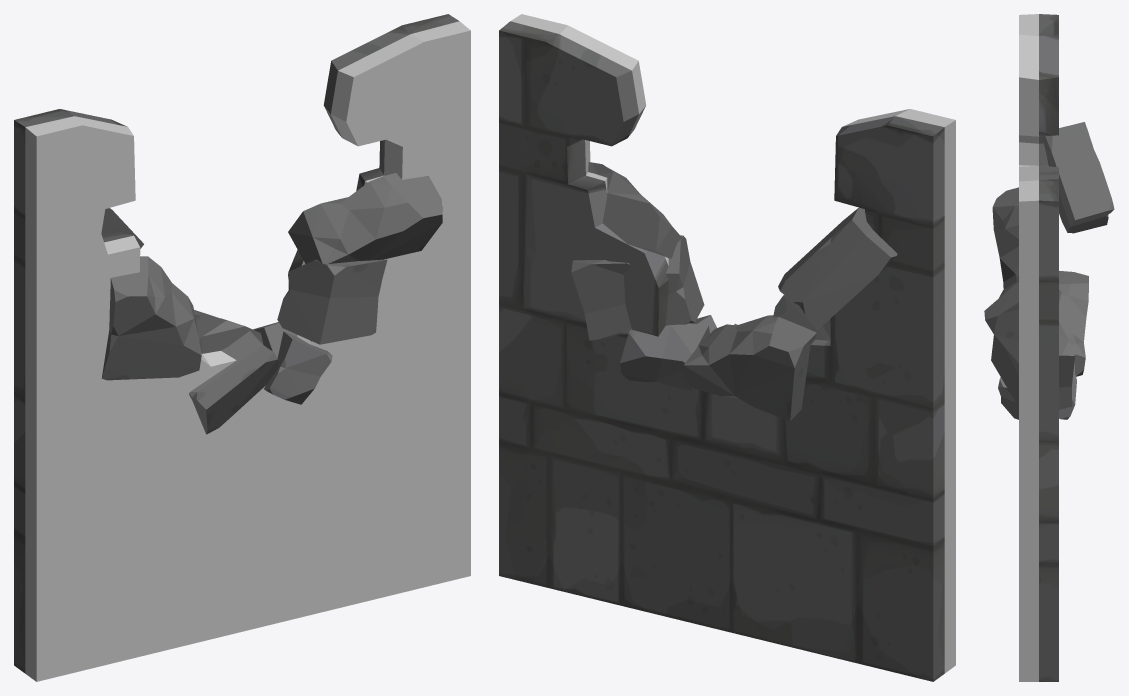
The model's file is SM_Bld_Wall_L_Damaged_01_Alt_01.fbx.
The picture shows the model from 3 angles, left to right: view 1: azimuth 30°, elevation 25°; view 2: azimuth 150°, elevation 25°; view 3: azimuth 270°, elevation 25°; orthographic projection. The views are drawn at different scales.
Visible parts, largest first — view 1: SM_Bld_Wall_L_Damaged_01_Alt_01; view 2: SM_Bld_Wall_L_Damaged_01_Alt_01; view 3: SM_Bld_Wall_L_Damaged_01_Alt_01.
Boxes of the visible parts, box(x1,y1,x2,y2) form: SM_Bld_Wall_L_Damaged_01_Alt_01: box(14, 14, 470, 681); SM_Bld_Wall_L_Damaged_01_Alt_01: box(499, 14, 955, 681); SM_Bld_Wall_L_Damaged_01_Alt_01: box(984, 14, 1114, 681).
Size of the model in its own units: 500 by 601 by 147.
